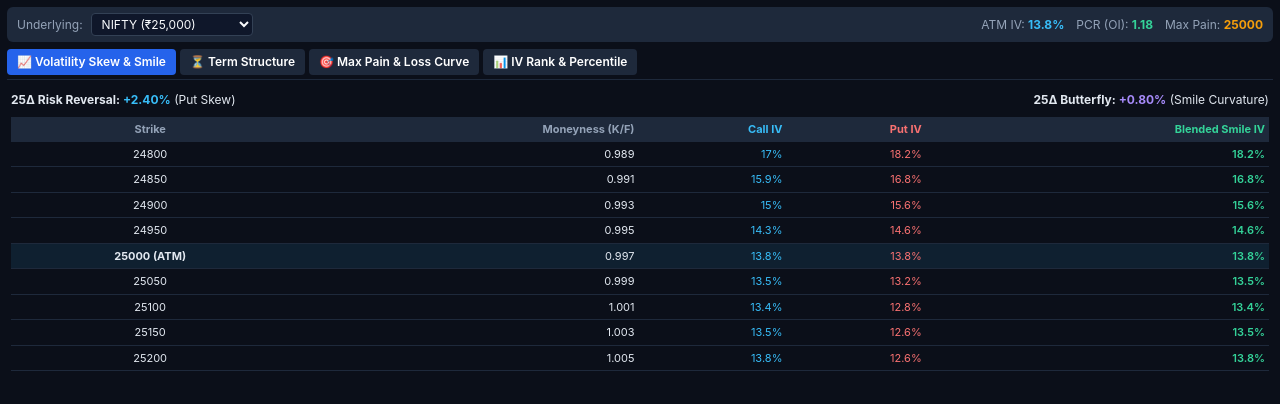
Scenario: OptionsAnalyticsPanel Component › switches to Max Pain tab and displays loss curve
What coordinates should you click on to do the following:
click the button "🎯 Max Pain & Loss Curve"
I would click on:
 (394, 62)
Its box is [309,49,479,75].
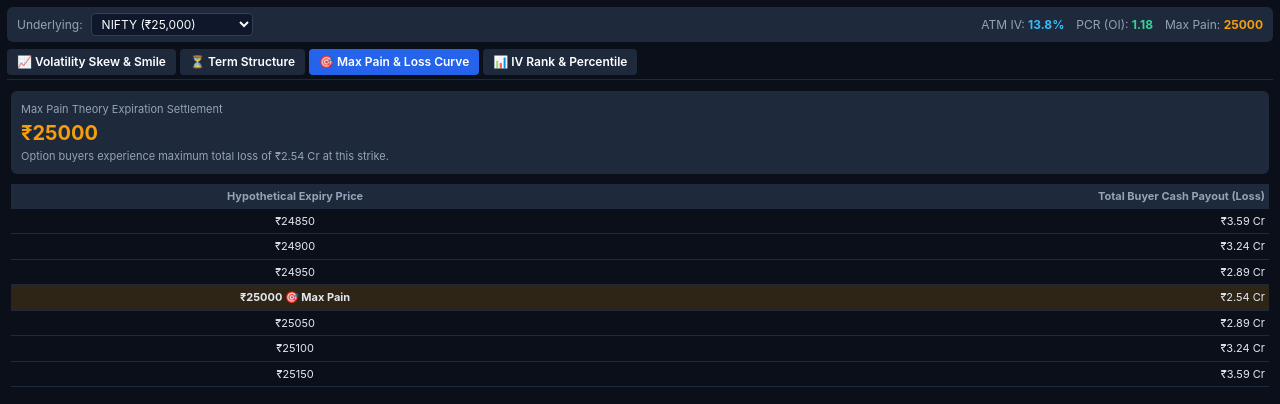
Check: the text "Max Pain:" is shown, box [1165,16,1224,32]
Check: the element with test id "tab-maxpain" is shown
Check: the text "Max Pain Theory Expiration Settlement" is shown, box [21,102,223,116]
